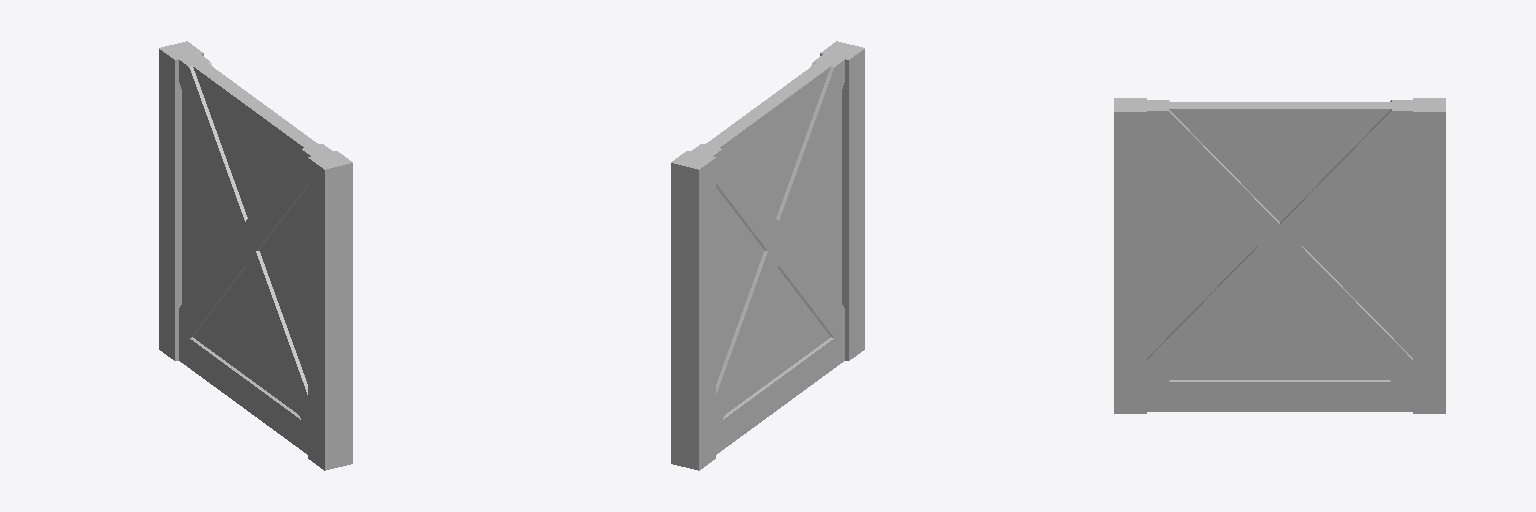
File: wallWoodDetailCross.obj
The picture shows the model from 3 angles: view 1: azimuth 30°, elevation 25°; view 2: azimuth 150°, elevation 25°; view 3: azimuth 270°, elevation 25°; orthographic projection.
Visible parts, largest first — view 1: wallWoodDetailCross; view 2: wallWoodDetailCross; view 3: wallWoodDetailCross.
Part boxes in pixels (bbox=[...]): wallWoodDetailCross: bbox=[159, 41, 352, 470]; wallWoodDetailCross: bbox=[671, 41, 864, 470]; wallWoodDetailCross: bbox=[1114, 98, 1445, 413].
Size of the model in its own units: 0.1 by 1 by 1.